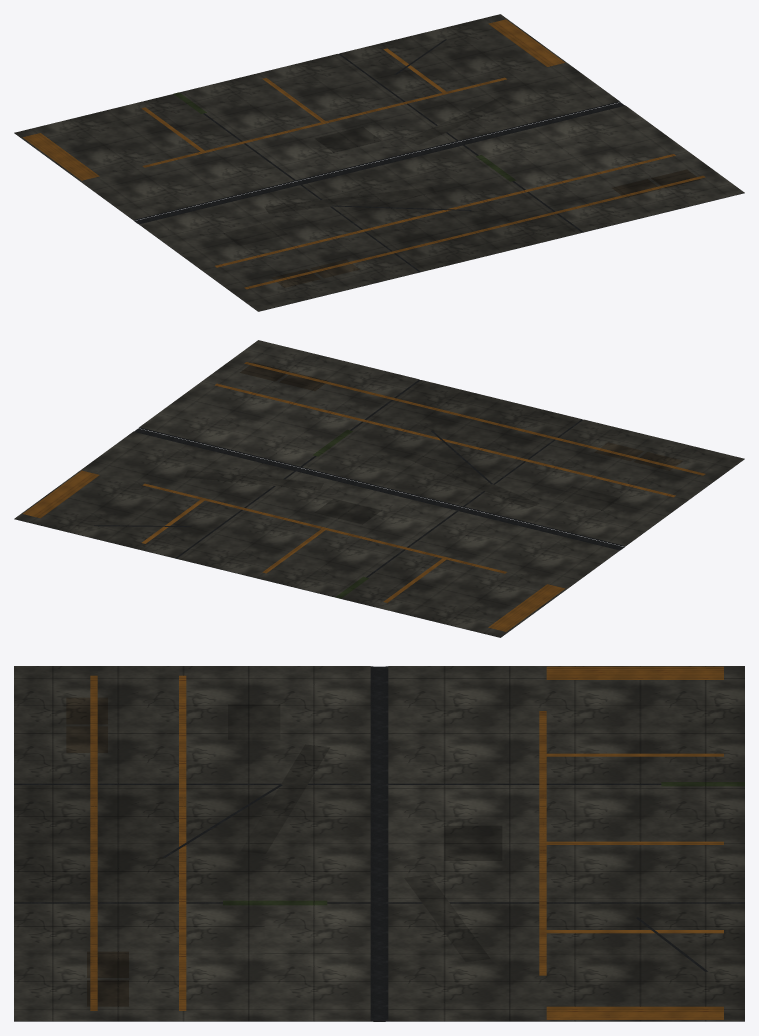
File: loading_yard.glb
The picture shows the model from 3 angles, top to bottom: view 1: azimuth 30°, elevation 25°; view 2: azimuth 150°, elevation 25°; view 3: azimuth 270°, elevation 25°; orthographic projection. The views are drawn at different scales.
Visible parts, largest first — view 1: loading_yard; view 2: loading_yard; view 3: loading_yard.
Part boxes in pixels (x1=…): loading_yard: x1=14, y1=14, x2=744, y2=311; loading_yard: x1=14, y1=340, x2=744, y2=637; loading_yard: x1=14, y1=666, x2=744, y2=1021.
Bounding box in the file's own units: 16.1 × 0.025 × 14.
Materials: 3 (3 with a texture image).
